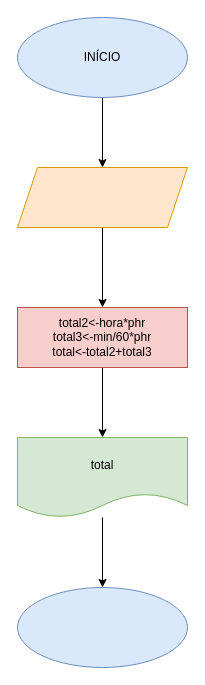
The diagram is 205 pixels wide and 685 high, and some of its shapes have lost their labels. The shapes that lost their labels are listed below. From the top down, each one's centre as x and y in pixels, then its label:
At (102,197): "hora,min,phr,total2,total3".
At (102,627): "FIM".
